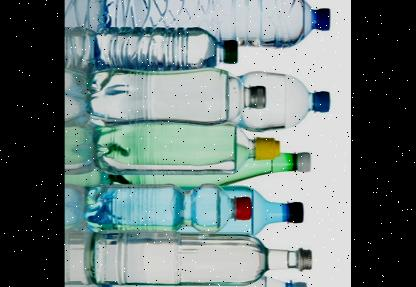Plastic Bottle: (68, 180, 310, 243), (66, 0, 335, 47), (66, 67, 269, 128), (100, 145, 315, 198), (85, 238, 311, 287), (87, 74, 272, 130), (86, 276, 319, 287)
